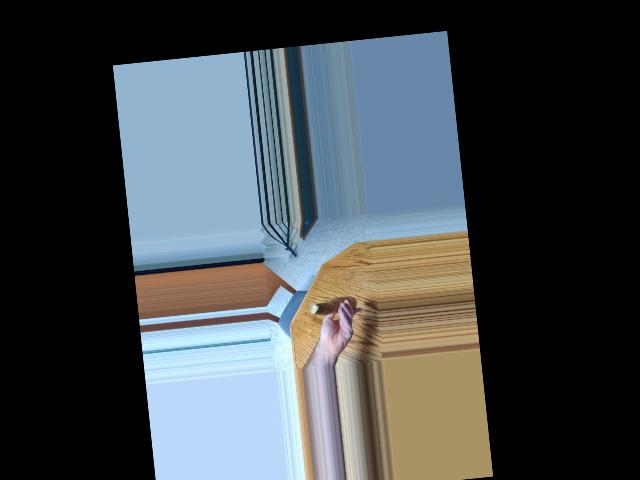sweet_potato: (312, 293, 353, 319)
